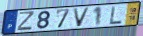1: (92, 5, 102, 27)
7: (55, 8, 71, 29)
8: (37, 10, 51, 30)
L: (109, 5, 123, 26)
V: (72, 7, 92, 28)
Z: (16, 10, 36, 31)
